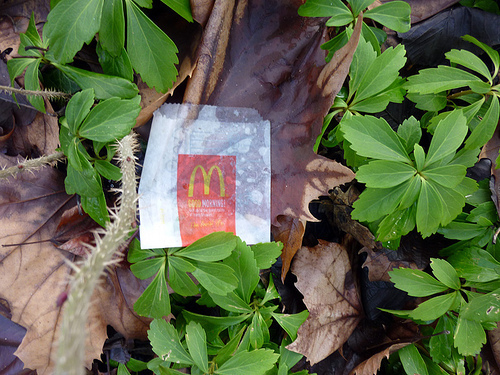litter: (137, 102, 271, 249)
